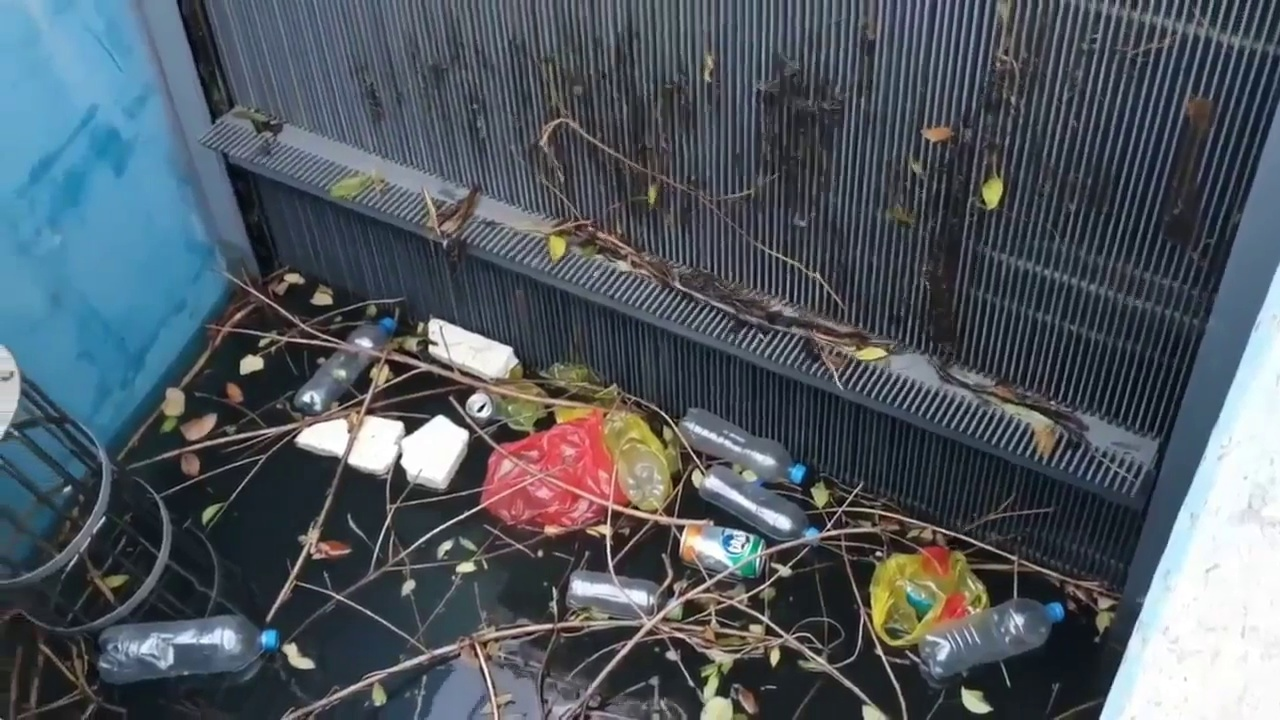debris: (396, 323, 757, 590), (481, 413, 626, 528), (99, 614, 279, 684), (918, 597, 1066, 681), (870, 547, 988, 646), (294, 317, 396, 415), (679, 408, 806, 483), (699, 466, 819, 541), (604, 409, 672, 511), (426, 319, 518, 380), (399, 415, 470, 490), (565, 570, 665, 618), (678, 525, 765, 579), (992, 399, 1060, 458), (347, 416, 404, 475), (540, 363, 618, 406), (492, 382, 547, 431), (329, 172, 377, 199), (464, 391, 498, 426), (179, 413, 217, 441), (730, 683, 759, 715), (1032, 422, 1057, 458), (281, 643, 315, 669), (961, 687, 992, 714), (311, 540, 351, 559), (981, 175, 1003, 209), (700, 696, 732, 719), (481, 693, 512, 715), (161, 388, 184, 417), (886, 205, 914, 227), (547, 233, 567, 263), (810, 481, 831, 509), (921, 126, 954, 143), (201, 502, 224, 526), (238, 354, 264, 375), (852, 346, 888, 361), (371, 364, 393, 387), (179, 453, 200, 477), (1095, 610, 1113, 636), (310, 286, 333, 306), (370, 682, 387, 706), (861, 704, 888, 719), (436, 538, 455, 559), (701, 52, 714, 82), (102, 574, 128, 589), (734, 466, 758, 482), (225, 382, 243, 403), (586, 524, 612, 538), (457, 536, 478, 552), (268, 281, 290, 296), (908, 157, 925, 176), (159, 417, 179, 433), (1095, 595, 1116, 610), (770, 563, 792, 577), (759, 586, 776, 603), (646, 183, 658, 207), (281, 272, 305, 284), (542, 525, 568, 536), (455, 561, 477, 574), (690, 468, 704, 487), (768, 646, 780, 666), (364, 303, 378, 318), (257, 336, 273, 347)
